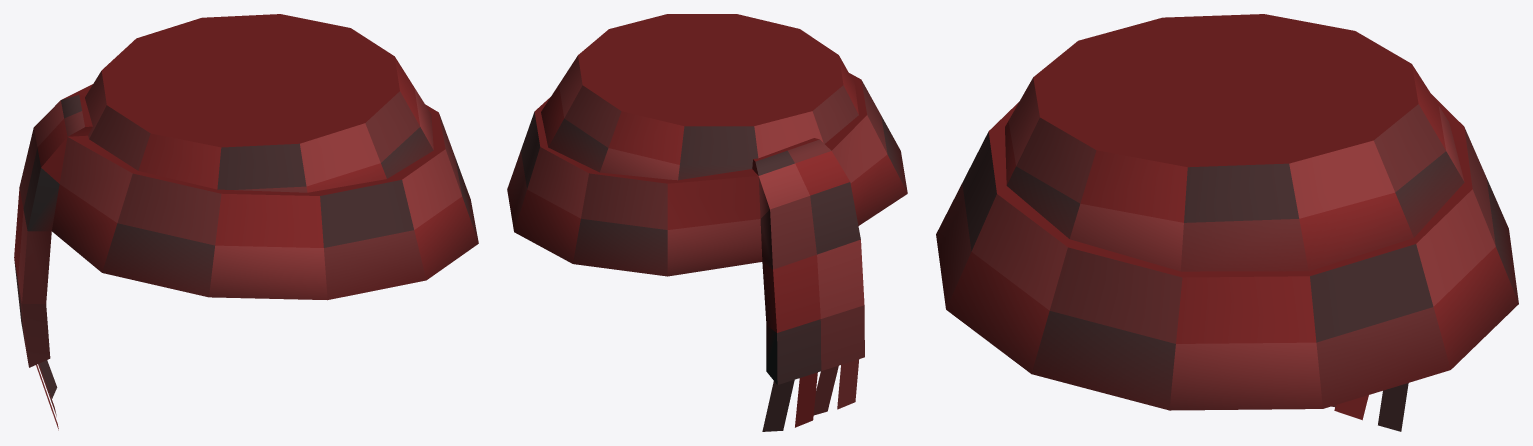
Rendered from hat_scarf.glb.
3 renders of one model, left to right at view 1: azimuth 30°, elevation 25°; view 2: azimuth 150°, elevation 25°; view 3: azimuth 270°, elevation 25°, orthographic. The views are drawn at different scales.
Parts seen in each view (by area): view 1: hat_scarf; view 2: hat_scarf; view 3: hat_scarf.
Boxes of the visible parts, bbox=[...] form: hat_scarf: bbox=[14, 14, 478, 430]; hat_scarf: bbox=[507, 14, 907, 431]; hat_scarf: bbox=[936, 14, 1518, 431].
Bounding box in the file's own units: 0.524 × 0.4168 × 0.5135.
